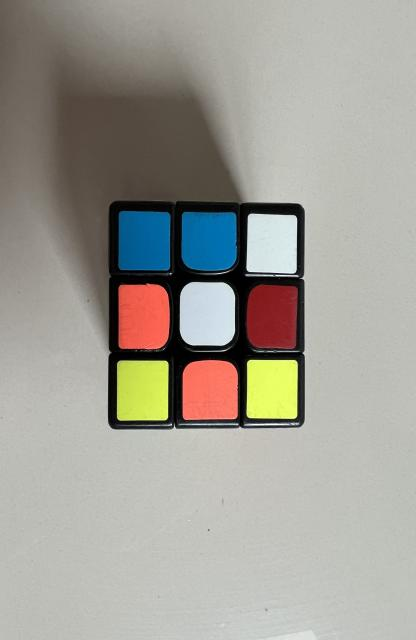Blue: (181, 211, 237, 271), (118, 211, 170, 271)
Orange: (118, 284, 170, 350), (182, 360, 238, 420)
Red: (246, 285, 298, 349)
White: (180, 282, 235, 346), (246, 214, 297, 274)
Yellow: (117, 360, 169, 421), (247, 360, 298, 419)
